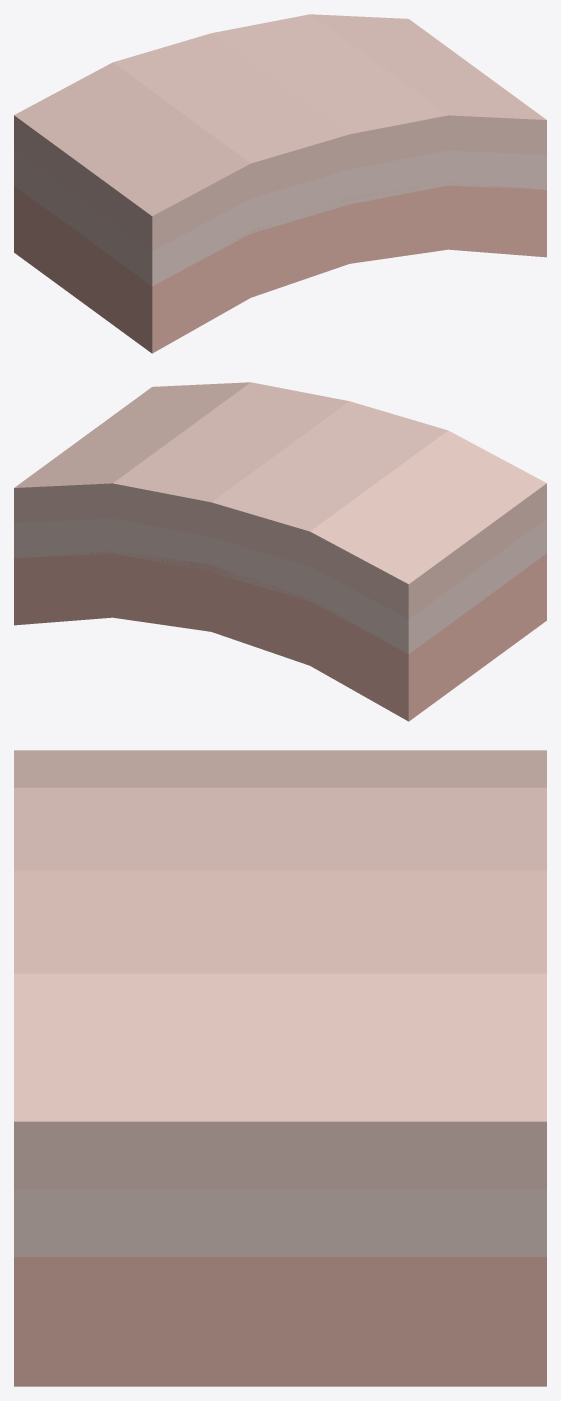
Rendered from raw pork.fbx.
The picture shows the model from 3 angles, top to bottom: view 1: azimuth 30°, elevation 25°; view 2: azimuth 150°, elevation 25°; view 3: azimuth 270°, elevation 25°; orthographic projection. The views are drawn at different scales.
Visible parts, largest first — view 1: Cube.003; view 2: Cube.003; view 3: Cube.003.
Part boxes in pixels (x1=…): Cube.003: x1=14, y1=14, x2=546, y2=353; Cube.003: x1=14, y1=382, x2=546, y2=721; Cube.003: x1=14, y1=750, x2=546, y2=1386.
Bounding box in the file's own units: 200 × 82.87 × 121.
